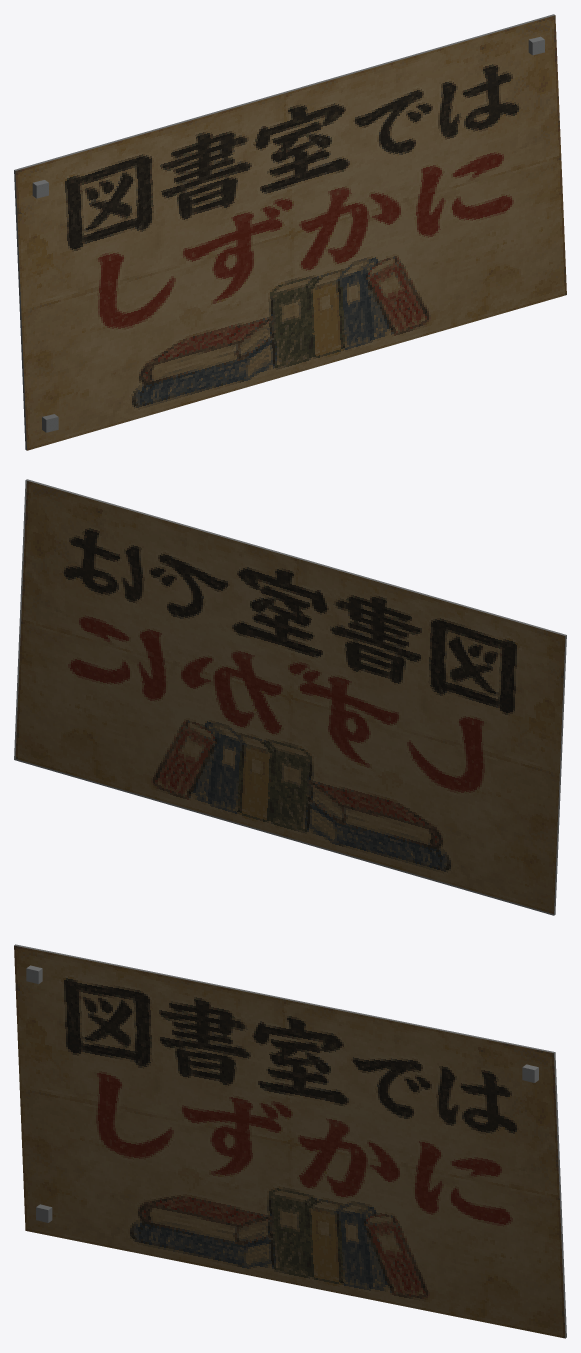
File: prop_poster-toshoshitsu-3.glb
The picture shows the model from 3 angles, top to bottom: view 1: azimuth 30°, elevation 25°; view 2: azimuth 150°, elevation 25°; view 3: azimuth 330°, elevation 25°; orthographic projection.
Parts seen in each view (by area): view 1: prop_poster-toshoshitsu-3; view 2: prop_poster-toshoshitsu-3; view 3: prop_poster-toshoshitsu-3.
Boxes of the visible parts, <box> form: prop_poster-toshoshitsu-3: <box>14,14,566,450</box>; prop_poster-toshoshitsu-3: <box>14,479,566,915</box>; prop_poster-toshoshitsu-3: <box>14,944,566,1338</box>.
Size of the model in its own units: 0.6269 by 0.3331 by 0.0115.
2 materials, 2 textured.
